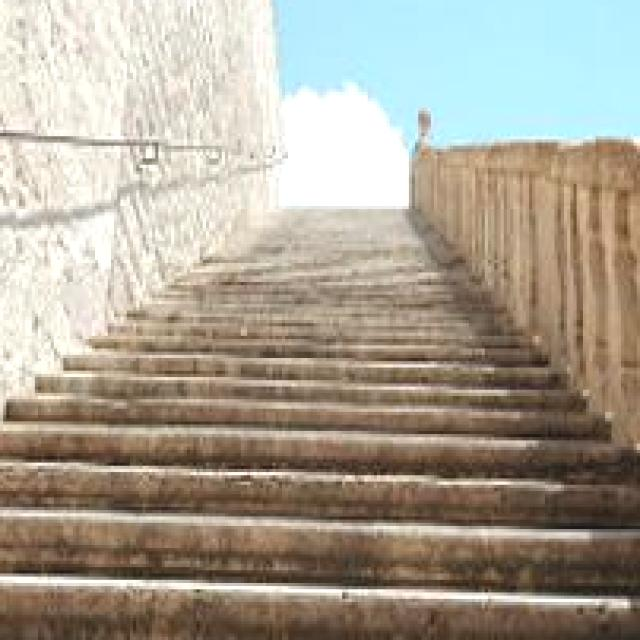upstair: (1, 330, 640, 640)
